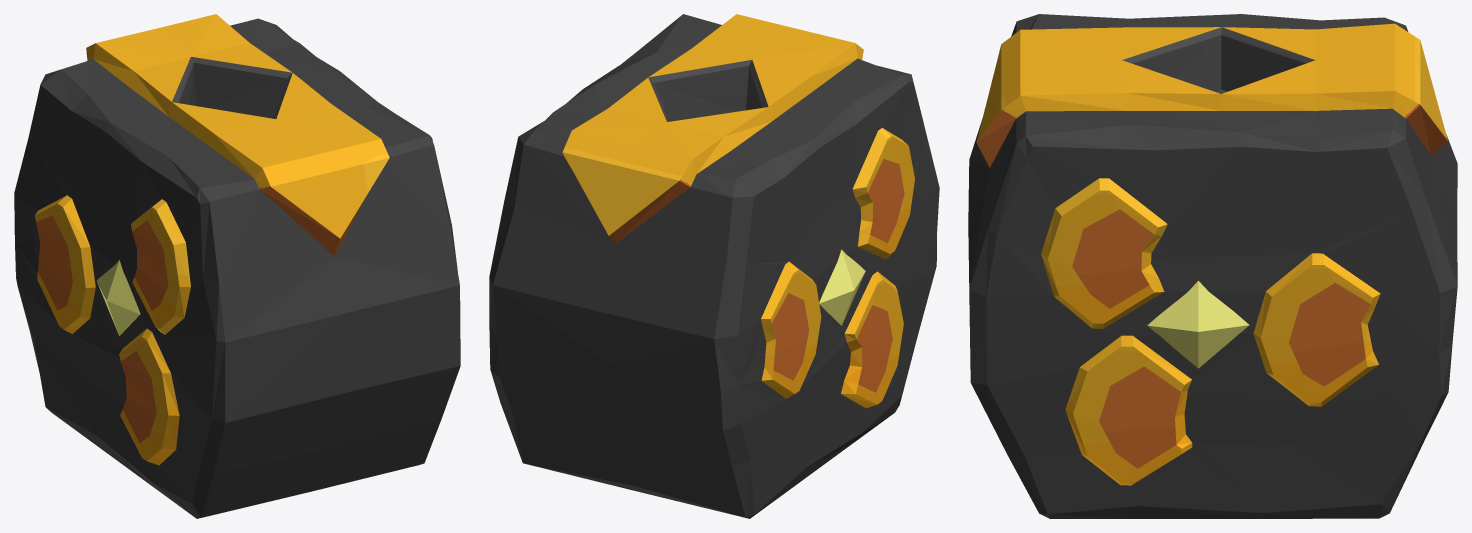
File: CharSkyKid_Neck_DragonBodyBlack.glb
3 renders of one model, left to right at view 1: azimuth 30°, elevation 25°; view 2: azimuth 150°, elevation 25°; view 3: azimuth 270°, elevation 25°, orthographic. The views are drawn at different scales.
Parts seen in each view (by area): view 1: CharSkyKid_Neck_DragonBodyBlack; view 2: CharSkyKid_Neck_DragonBodyBlack; view 3: CharSkyKid_Neck_DragonBodyBlack.
Part boxes in pixels (box(x1,y1,x2,y2)): CharSkyKid_Neck_DragonBodyBlack: box(14, 14, 460, 518); CharSkyKid_Neck_DragonBodyBlack: box(489, 14, 939, 518); CharSkyKid_Neck_DragonBodyBlack: box(968, 14, 1457, 518).
Size of the model in its own units: 5.68 by 7.02 by 7.79.
Materials: 1 (1 with a texture image).
